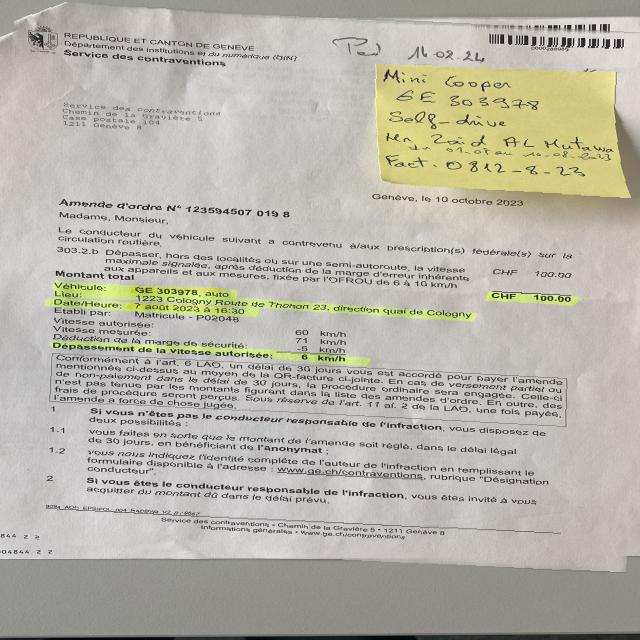paper-document-: (0, 2, 640, 572)
